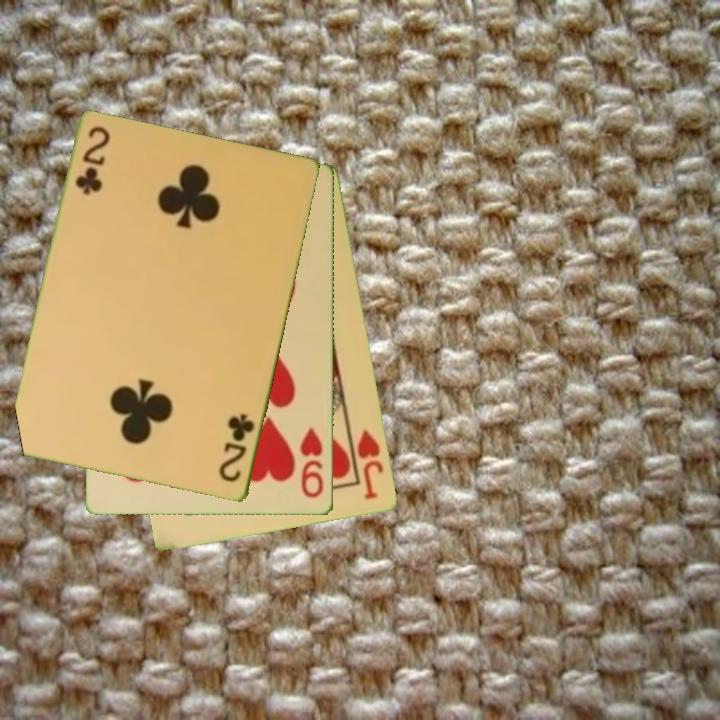2c: (216, 410, 258, 486), (72, 123, 113, 198)
9h: (297, 425, 327, 501)
Jh: (354, 426, 387, 503)
